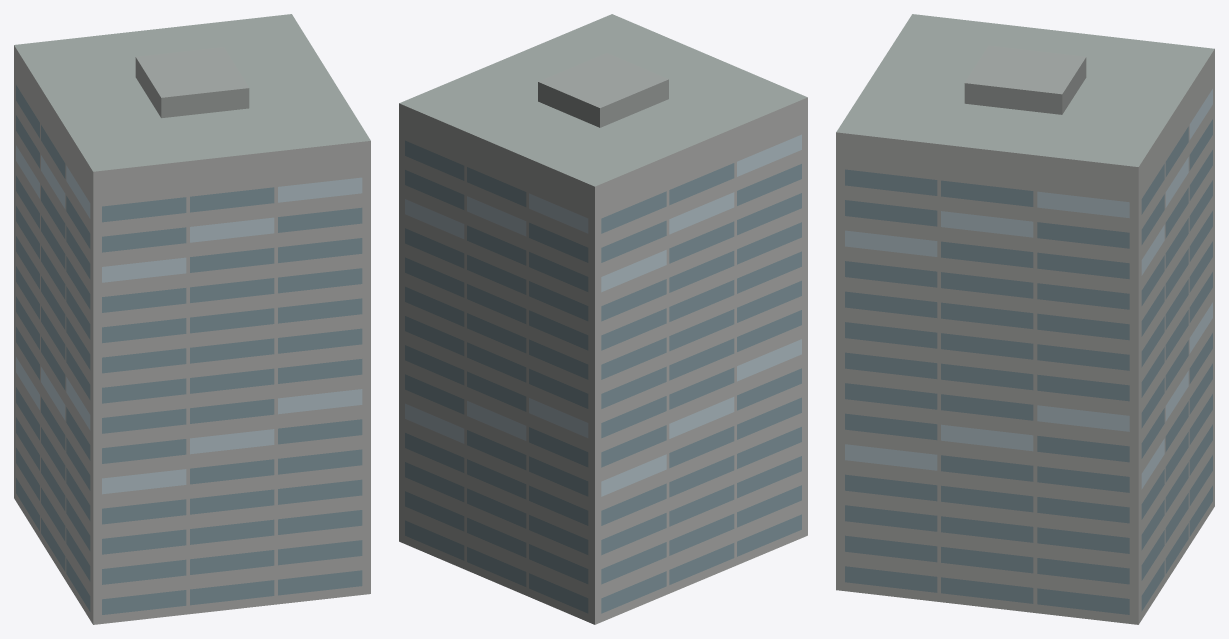
Rendered from fallback-olympic-park-foreon-424.glb.
3 renders of one model, left to right at view 1: azimuth 30°, elevation 25°; view 2: azimuth 150°, elevation 25°; view 3: azimuth 270°, elevation 25°, orthographic. The views are drawn at different scales.
Visible parts, largest first — view 1: fallback-olympic-park-foreon-424; view 2: fallback-olympic-park-foreon-424; view 3: fallback-olympic-park-foreon-424.
Boxes of the visible parts, x1,y1,x2,y2 form: fallback-olympic-park-foreon-424: (14,14,370,624); fallback-olympic-park-foreon-424: (399,14,807,624); fallback-olympic-park-foreon-424: (836,14,1214,624).
Bounding box in the file's own units: 32.83 × 47.81 × 34.3.
